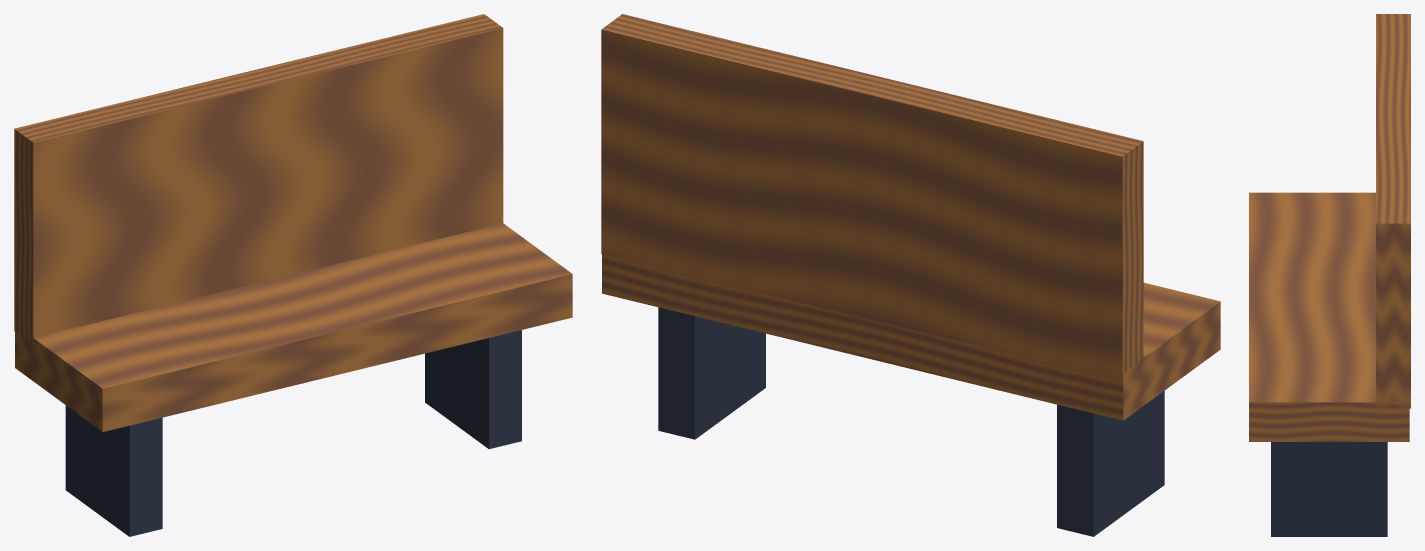
File: bench.obj
3 renders of one model, left to right at view 1: azimuth 30°, elevation 25°; view 2: azimuth 150°, elevation 25°; view 3: azimuth 270°, elevation 25°, orthographic. The views are drawn at different scales.
Size of the model in its own units: 1.7 by 1.25 by 0.555.
2 materials, 1 textured.
